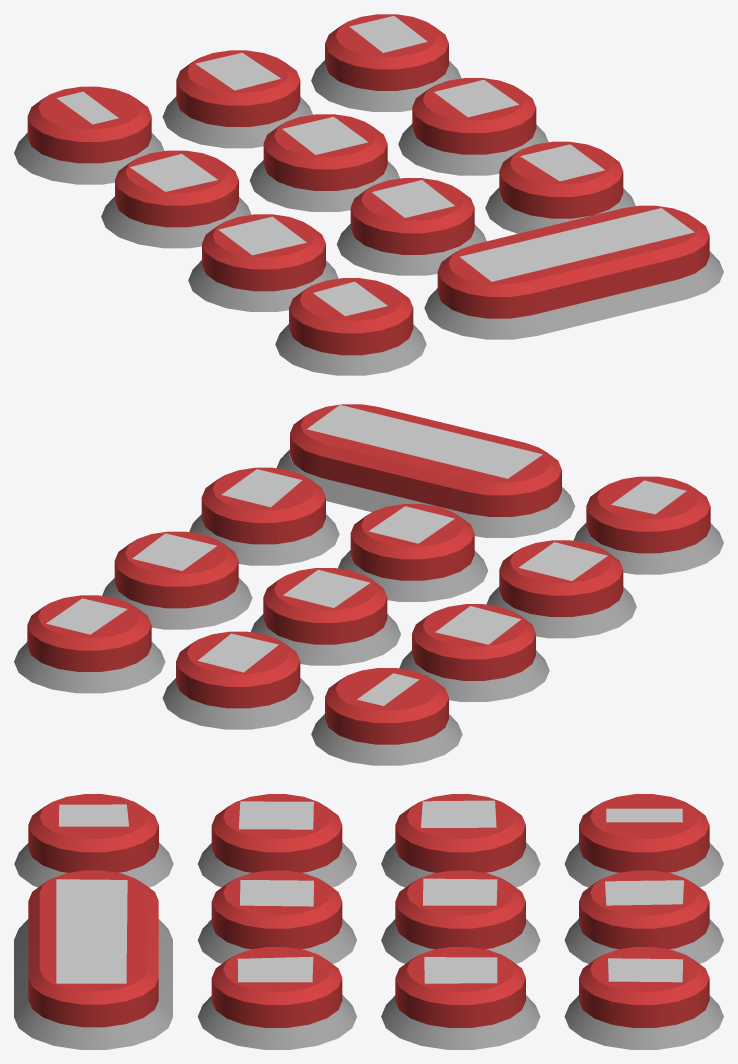
The model's file is LS_btn_btm_metalC.fbx.
3 views of the same model, one above another, from view 1: azimuth 30°, elevation 25°; view 2: azimuth 150°, elevation 25°; view 3: azimuth 270°, elevation 25° (orthographic). The views are drawn at different scales.
Visible parts, largest first — view 1: LS_btn_btm_metalC, bt_cc.011, bt_cc.001, snC_E, bt_cc.010, bt_cc.003, bt_cc.009, bt_cc.002, bt_cc.008, bt_cc.006, bt_cc.005, bt_cc.004 (+11 smaller); view 2: LS_btn_btm_metalC, bt_cc.011, bt_cc.001, snC_E, bt_cc.010, bt_cc.003, bt_cc.009, bt_cc.002, bt_cc.006, bt_cc.008, bt_cc.005, bt_cc.004 (+11 smaller); view 3: LS_btn_btm_metalC, bt_cc.011, bt_cc.001, snC_E, bt_cc.010, bt_cc.003, bt_cc.009, bt_cc.006, bt_cc.002, bt_cc.008, bt_cc.005, bt_cc.007 (+11 smaller).
Boxes of the visible parts, box(x1,y1,x2,y2) form: LS_btn_btm_metalC: box(14, 60, 723, 375); bt_cc.011: box(437, 205, 709, 318); bt_cc.001: box(27, 86, 151, 163); snC_E: box(459, 208, 694, 281); bt_cc.010: box(289, 278, 413, 355); bt_cc.003: box(325, 14, 448, 90); bt_cc.009: box(499, 141, 623, 218); bt_cc.002: box(176, 50, 300, 126); bt_cc.008: box(350, 178, 474, 254); bt_cc.006: box(412, 78, 536, 154); bt_cc.005: box(263, 114, 387, 190); bt_cc.004: box(115, 150, 238, 227); LS_btn_btm_metalC: box(14, 449, 723, 765); bt_cc.011: box(290, 404, 561, 517); bt_cc.001: box(325, 668, 448, 744); snC_E: box(307, 405, 542, 478); bt_cc.010: box(586, 476, 710, 553); bt_cc.003: box(27, 595, 151, 671); bt_cc.009: box(201, 467, 325, 544); bt_cc.002: box(176, 631, 300, 708); bt_cc.006: box(114, 531, 238, 608); bt_cc.008: box(350, 504, 474, 580); bt_cc.005: box(263, 568, 387, 644); bt_cc.004: box(412, 604, 535, 680); LS_btn_btm_metalC: box(14, 842, 723, 1049); bt_cc.011: box(28, 870, 158, 1027); bt_cc.001: box(579, 794, 709, 872); snC_E: box(56, 879, 127, 983); bt_cc.010: box(28, 794, 158, 872); bt_cc.003: box(579, 947, 709, 1027); bt_cc.009: box(211, 947, 342, 1027); bt_cc.006: box(395, 947, 525, 1027); bt_cc.002: box(579, 870, 709, 949); bt_cc.008: box(211, 870, 342, 949); bt_cc.005: box(395, 870, 525, 949); bt_cc.007: box(211, 794, 342, 872).
Size of the model in its own units: 166 by 16.91 by 227.
